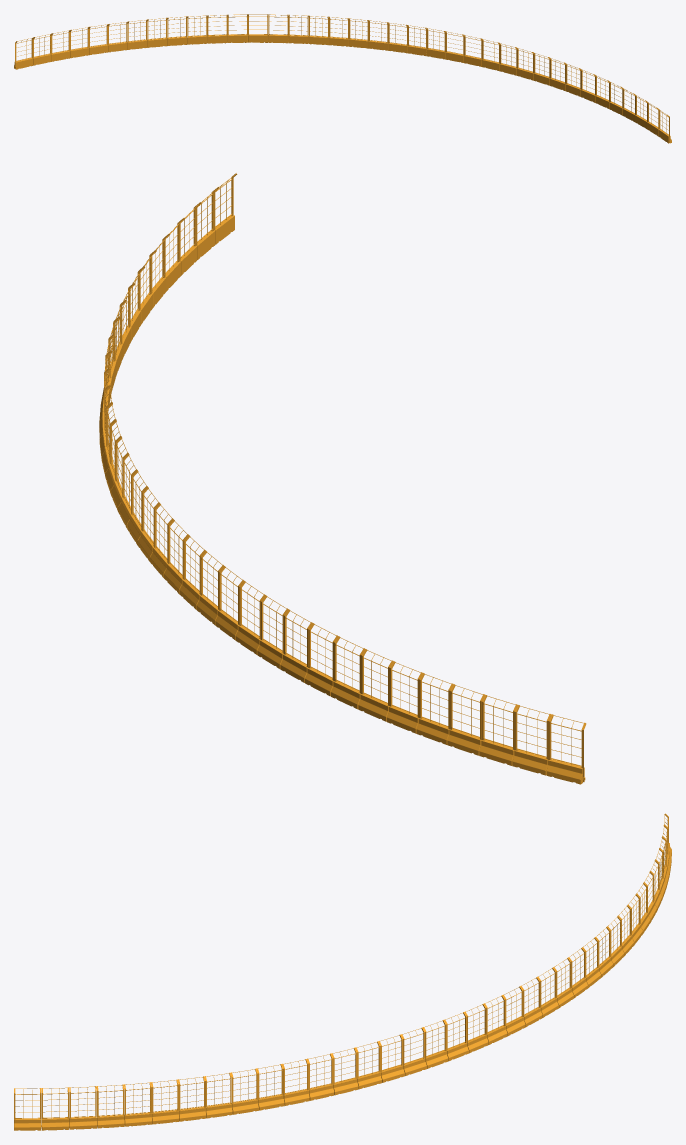
The model's file is SM_Fence_Road_Debrisguard_Bar_60m_Corner_Outer.fbx.
The picture shows the model from 3 angles, top to bottom: view 1: azimuth 30°, elevation 25°; view 2: azimuth 150°, elevation 25°; view 3: azimuth 270°, elevation 25°; orthographic projection. The views are drawn at different scales.
Visible parts, largest first — view 1: SM_Fence_Road_Debrisguard_Bar_60m_Corner_Outer; view 2: SM_Fence_Road_Debrisguard_Bar_60m_Corner_Outer; view 3: SM_Fence_Road_Debrisguard_Bar_60m_Corner_Outer.
Boxes of the visible parts, bbox=[...] form: SM_Fence_Road_Debrisguard_Bar_60m_Corner_Outer: bbox=[14, 14, 671, 143]; SM_Fence_Road_Debrisguard_Bar_60m_Corner_Outer: bbox=[99, 173, 586, 784]; SM_Fence_Road_Debrisguard_Bar_60m_Corner_Outer: bbox=[14, 813, 671, 1130].
Bounding box in the file's own units: 61.47 × 4.08 × 61.35.
